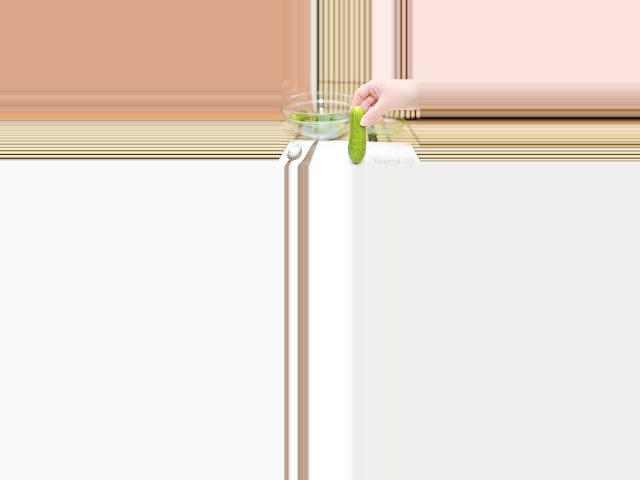cucumber: (348, 106, 366, 164)
